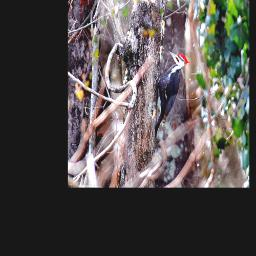Woodpecker: (154, 50, 192, 140)
